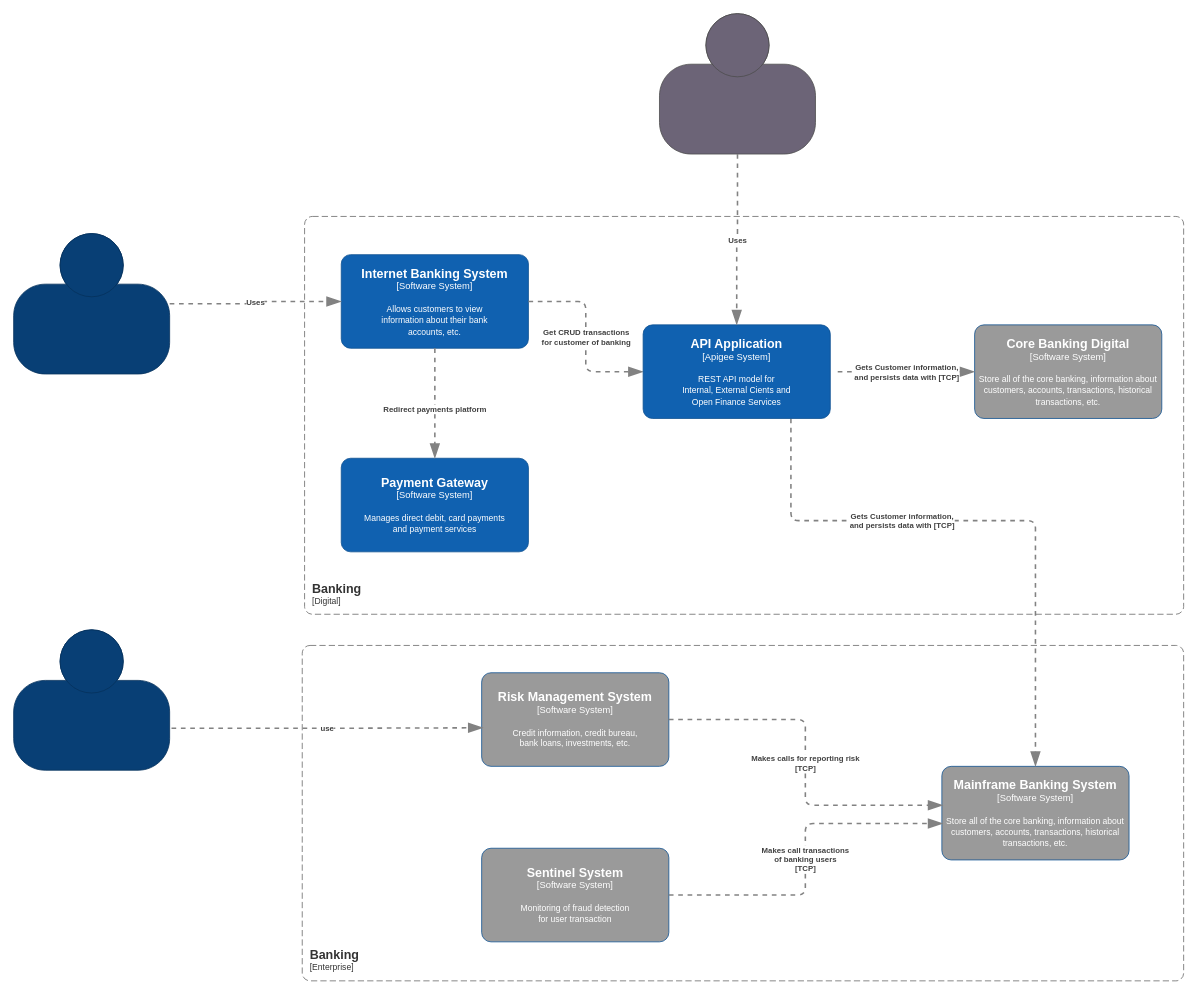
This 1197x994 diagram has some shape labels left out. The shapes that lost their labels are listed below. From the top down, each one's centre as x and y in pixels, then its label:
At (x=737, y=83): "External Customer [Customer] Consuming API services".
At (x=91, y=303): "Customer [Person] A customer of the bank, with personal account".
At (x=91, y=699): "Banking Customer [Person] A customer of the banking with personal banking role".
